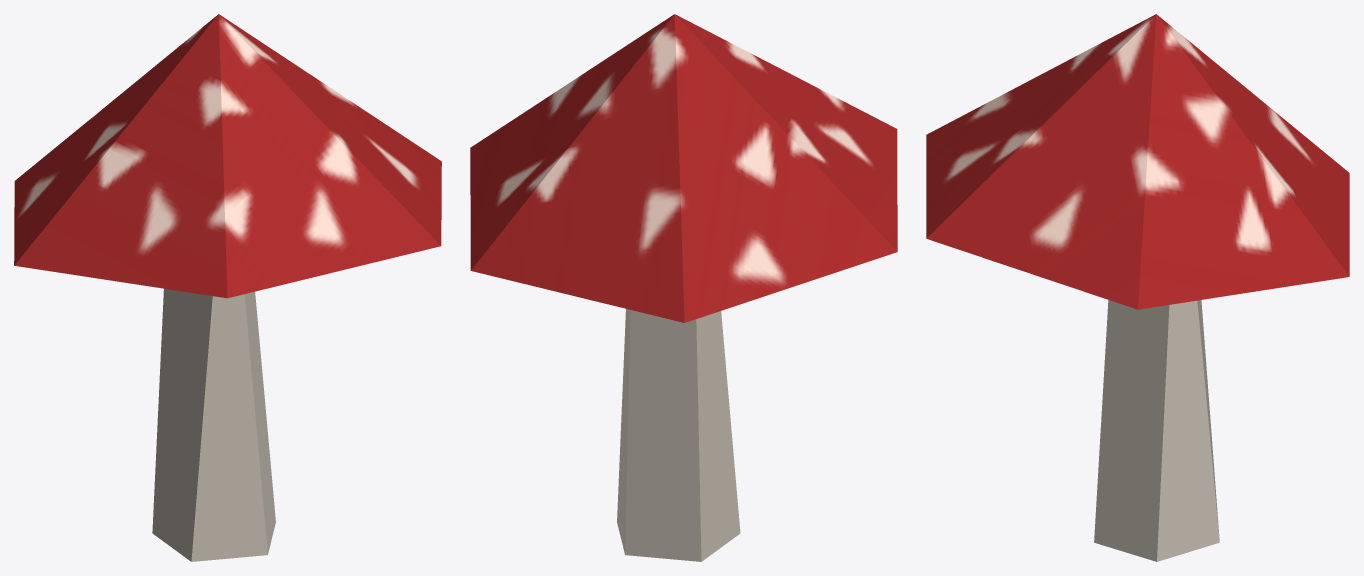
Rendered from Mushroom_1A.fbx.
3 views of the same model, side by side, from view 1: azimuth 30°, elevation 25°; view 2: azimuth 150°, elevation 25°; view 3: azimuth 270°, elevation 25° (orthographic).
Visible parts, largest first — view 1: polySurface10608; view 2: polySurface10608; view 3: polySurface10608.
Part boxes in pixels (x1,y1,x2,y2): polySurface10608: (14, 14, 441, 561); polySurface10608: (470, 14, 897, 561); polySurface10608: (926, 14, 1349, 561).
Size of the model in its own units: 29.73 by 34.71 by 25.62.
